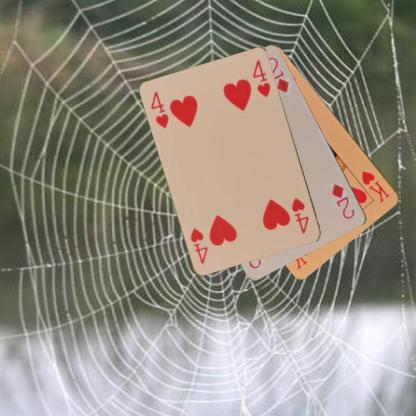2d: (327, 181, 356, 221)
4h: (289, 195, 311, 235), (149, 89, 171, 129)
Kh: (359, 168, 391, 205)
